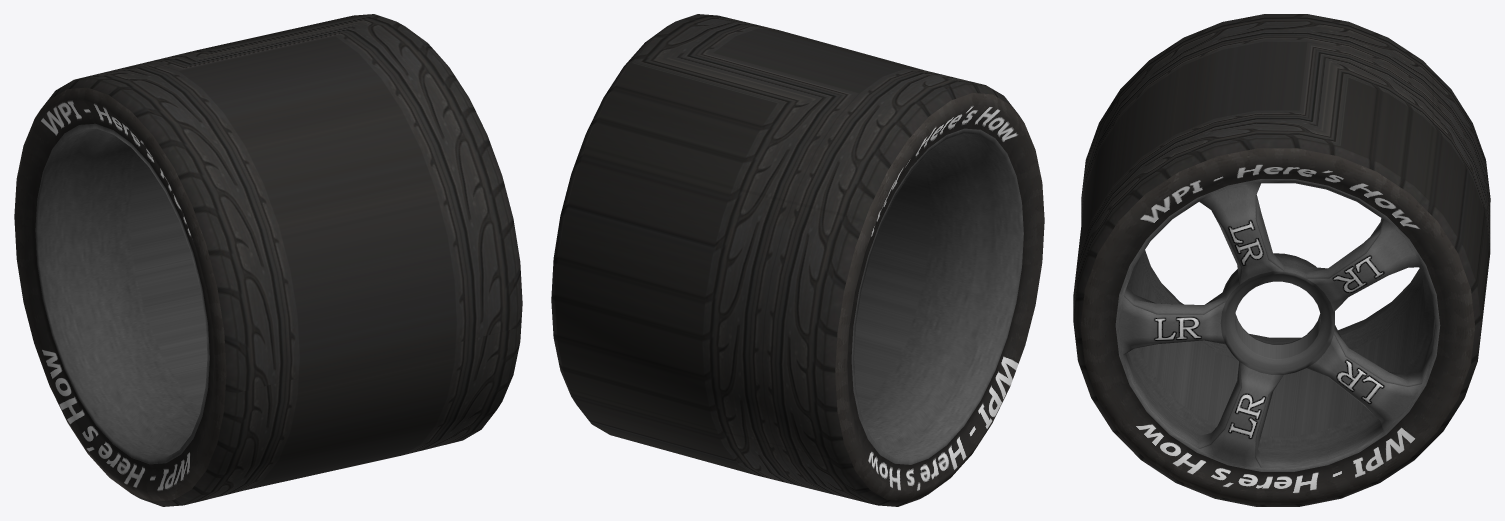
The model's file is wheel_strech.dae.
The picture shows the model from 3 angles, left to right: view 1: azimuth 30°, elevation 25°; view 2: azimuth 150°, elevation 25°; view 3: azimuth 270°, elevation 25°; orthographic projection. The views are drawn at different scales.
Parts seen in each view (by area): view 1: Cylinder_000; view 2: Cylinder_000; view 3: Cylinder_000.
Part boxes in pixels (x1,y1,x2,y2): Cylinder_000: [14, 14, 522, 506]; Cylinder_000: [551, 14, 1044, 506]; Cylinder_000: [1073, 14, 1490, 506].
Bounding box in the file's own units: 0.7861 × 0.9983 × 0.9754.
1 material, 1 textured.
